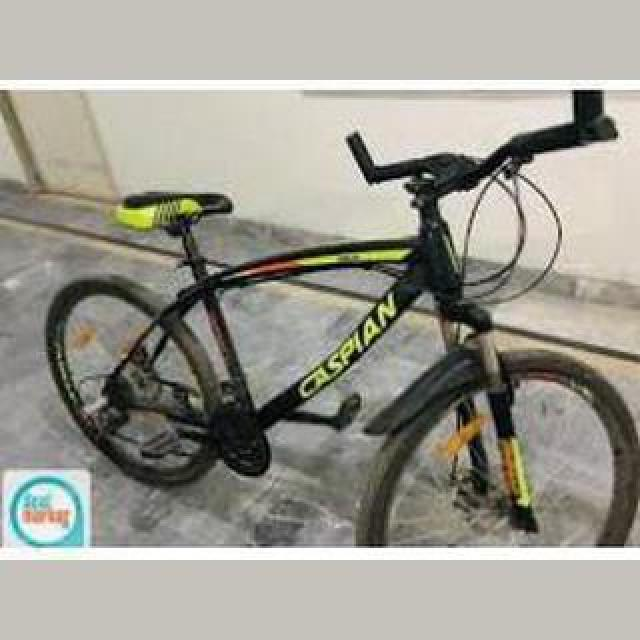Person: (46, 90, 638, 548)
